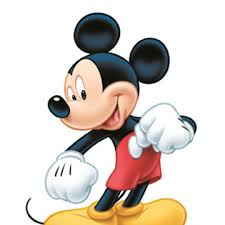mickey: (43, 12, 196, 225)
